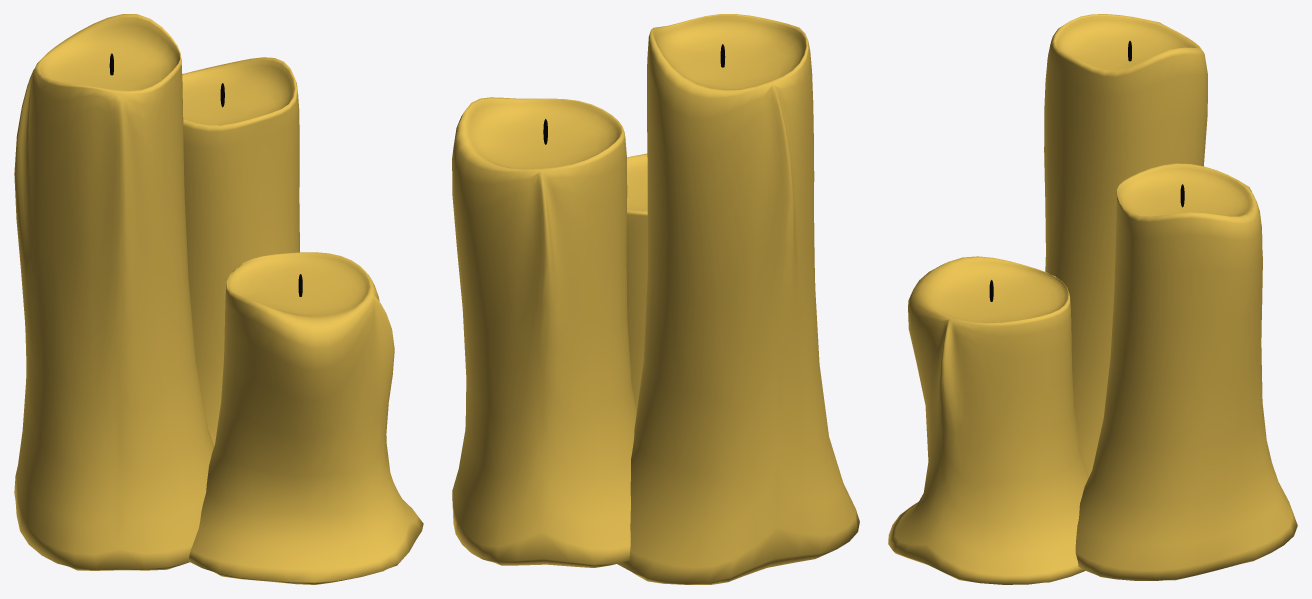
The model's file is candel 2.fbx.
3 views of the same model, side by side, from view 1: azimuth 30°, elevation 25°; view 2: azimuth 150°, elevation 25°; view 3: azimuth 270°, elevation 25° (orthographic). The views are drawn at different scales.
Parts seen in each view (by area): view 1: Cylinder.004; view 2: Cylinder.004; view 3: Cylinder.004.
Part boxes in pixels (x1,y1,x2,y2): Cylinder.004: [14, 14, 423, 584]; Cylinder.004: [452, 14, 859, 584]; Cylinder.004: [888, 14, 1297, 584].
Bounding box in the file's own units: 146 × 208 × 168.
